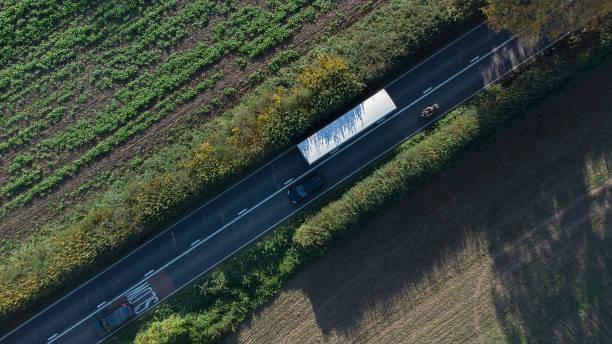Motorcycle: (414, 101, 444, 121)
